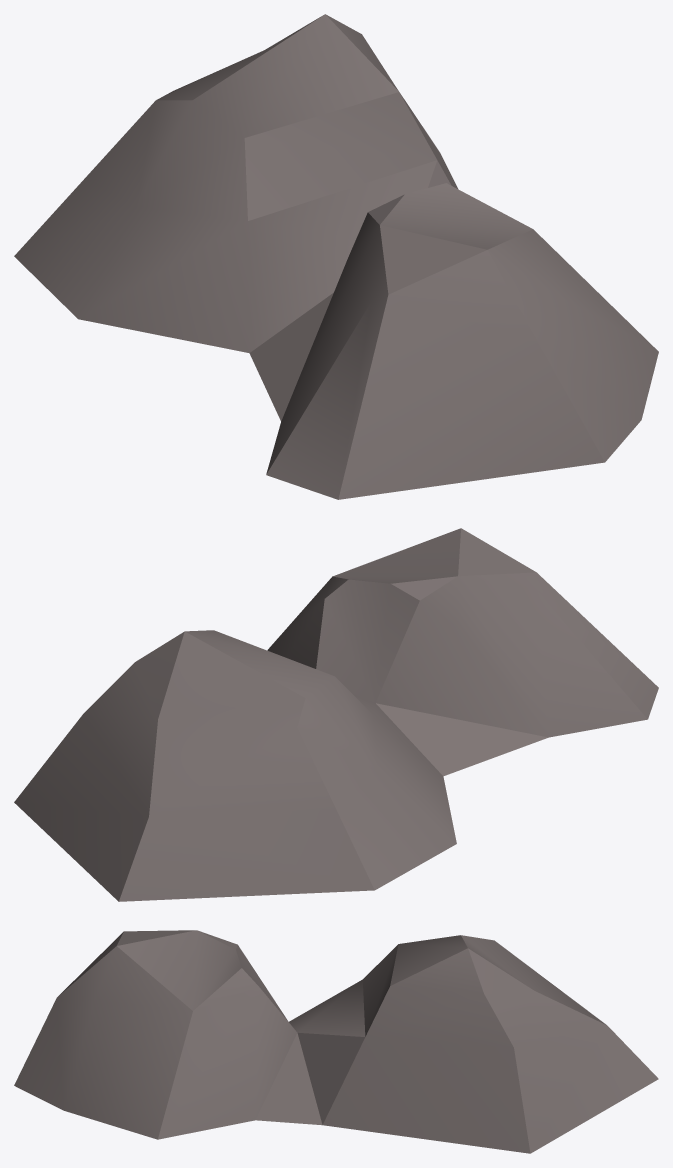
The model's file is Stein_groß.fbx.
The picture shows the model from 3 angles, top to bottom: view 1: azimuth 30°, elevation 25°; view 2: azimuth 150°, elevation 25°; view 3: azimuth 270°, elevation 25°; orthographic projection. The views are drawn at different scales.
Parts seen in each view (by area): view 1: big_stone; view 2: big_stone; view 3: big_stone.
Part boxes in pixels (box(x1,y1,x2,y2)): big_stone: box(14, 14, 658, 499); big_stone: box(14, 528, 658, 901); big_stone: box(14, 930, 658, 1153).
Size of the model in its own units: 193 by 83.76 by 325.
